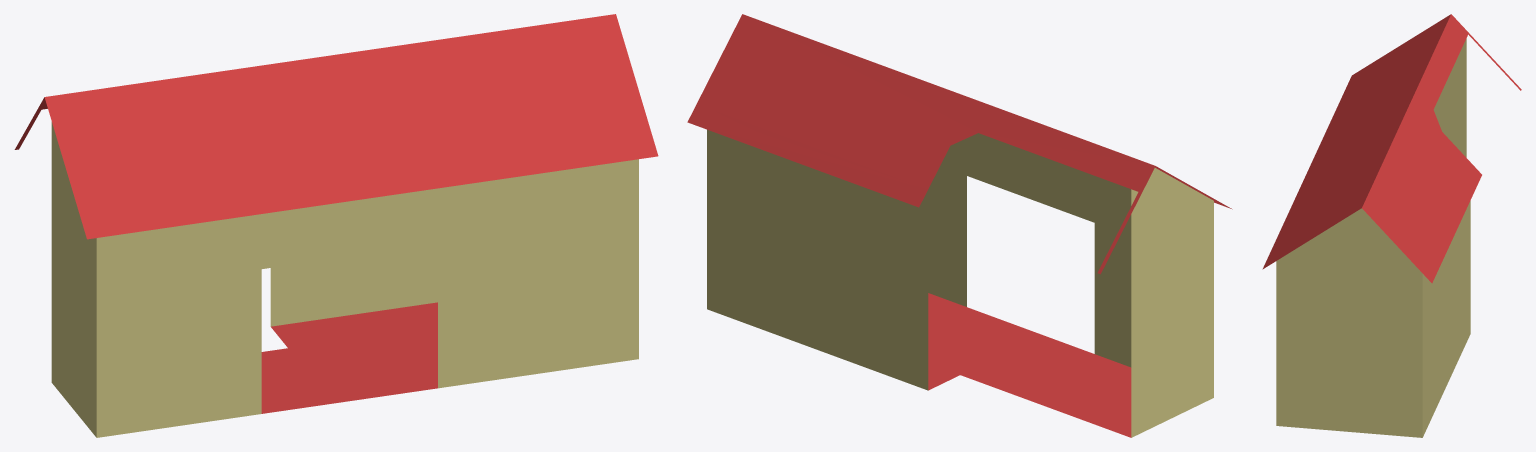
The picture shows the model from 3 angles, left to right: view 1: azimuth 30°, elevation 25°; view 2: azimuth 150°, elevation 25°; view 3: azimuth 270°, elevation 25°; orthographic projection. The views are drawn at different scales.
Bounding box in the file's own units: 20.53 × 10.81 × 10.58.
